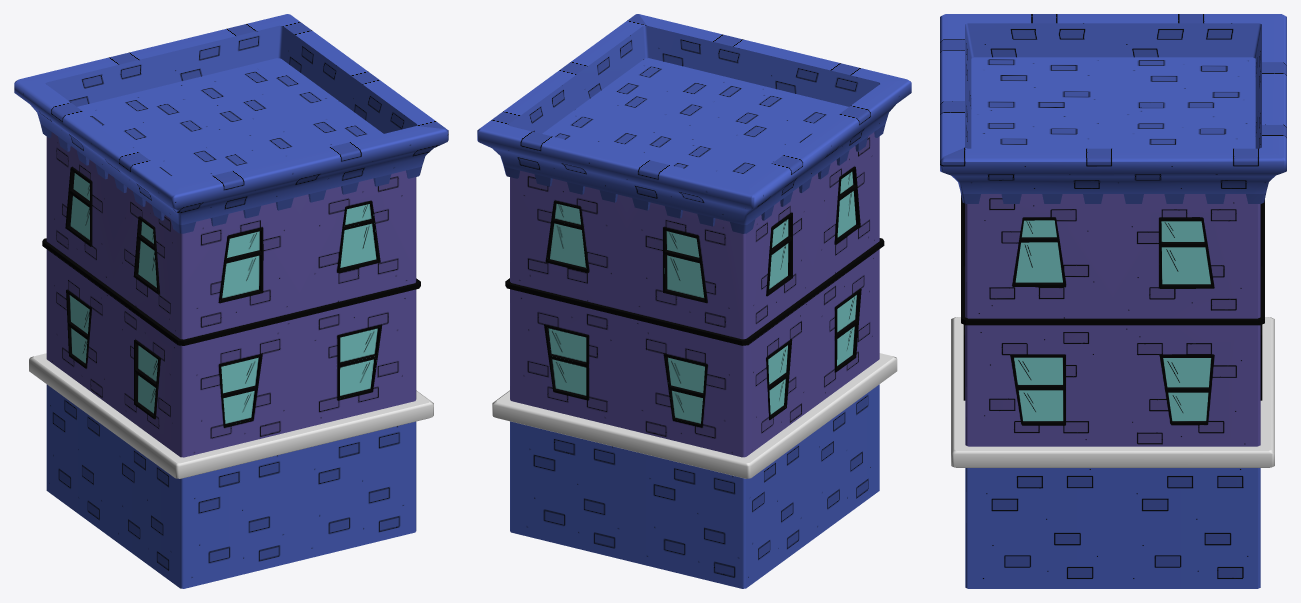
File: building1.fbx
The picture shows the model from 3 angles, left to right: view 1: azimuth 30°, elevation 25°; view 2: azimuth 150°, elevation 25°; view 3: azimuth 270°, elevation 25°; orthographic projection. The views are drawn at different scales.
Visible parts, largest first — view 1: Box162, Box164, Box161, Box163; view 2: Box162, Box164, Box161, Box163; view 3: Box162, Box164, Box161, Box163.
Boxes of the visible parts, left/top/right/bottom form: Box162: left=42, top=132, right=420, bottom=457; Box164: left=14, top=14, right=448, bottom=233; Box161: left=46, top=384, right=416, bottom=588; Box163: left=29, top=353, right=433, bottom=478; Box162: left=505, top=132, right=884, bottom=457; Box164: left=477, top=14, right=911, bottom=233; Box161: left=510, top=384, right=879, bottom=588; Box163: left=492, top=353, right=897, bottom=478; Box162: left=961, top=194, right=1264, bottom=446; Box164: left=940, top=14, right=1286, bottom=203; Box161: left=965, top=468, right=1260, bottom=588; Box163: left=951, top=317, right=1274, bottom=467.
Bounding box in the file's own units: 5.87 × 8.23 × 5.87.
